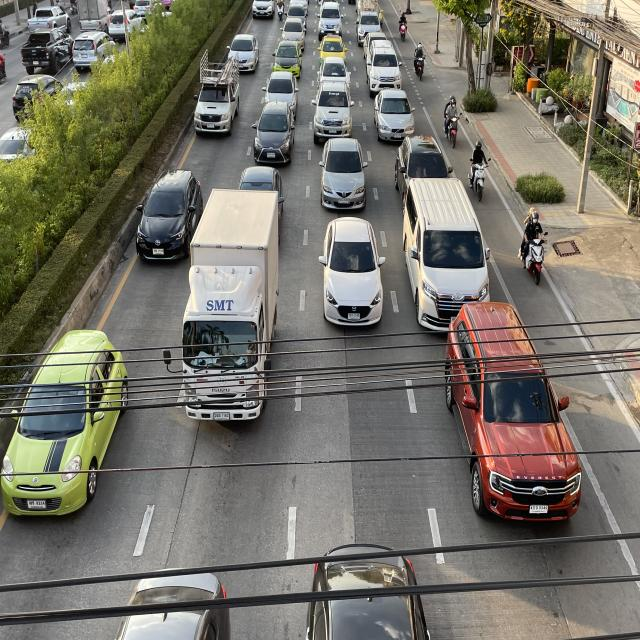bike: (516, 199, 550, 295), (467, 134, 492, 206), (441, 89, 463, 150), (411, 38, 428, 86)
car: (319, 210, 389, 332), (130, 166, 208, 266)
truck: (163, 187, 282, 435), (191, 44, 243, 144)
